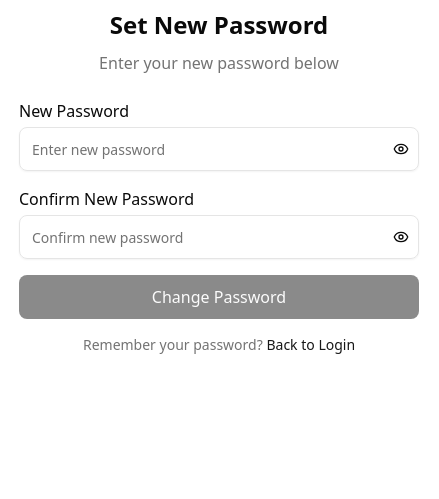
Test case: ChangePasswordForm › shows error when server fails
The image size is (439, 499).
Type "abc123!@" into the password field labelled "New Password" at (219, 149), box [19,127,419,171]
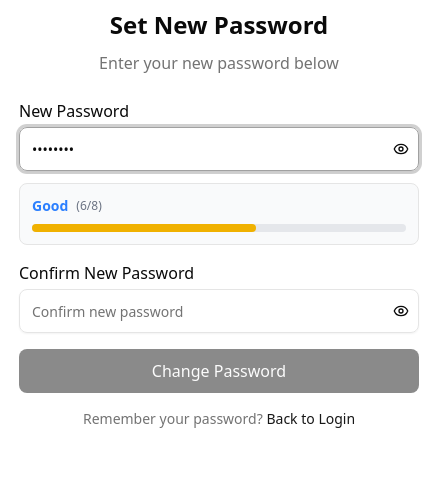
Type "abc123!@" into the password field labelled "Confirm New Password" at (219, 311), box [19,289,419,333]
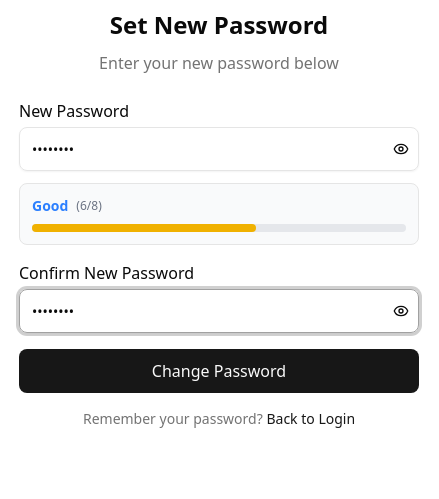
Click the button "Change Password" at (219, 371), box [19,349,419,393]
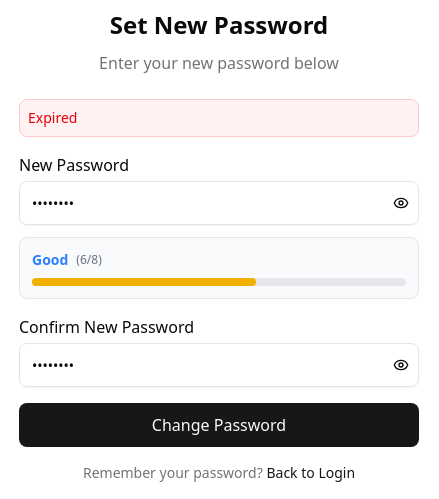
Expected: the text "Expired" is shown, [19,99,419,137]
